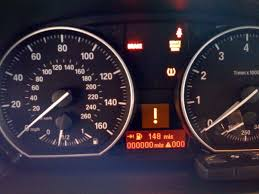Digital_Meter: (124, 130, 187, 151)
